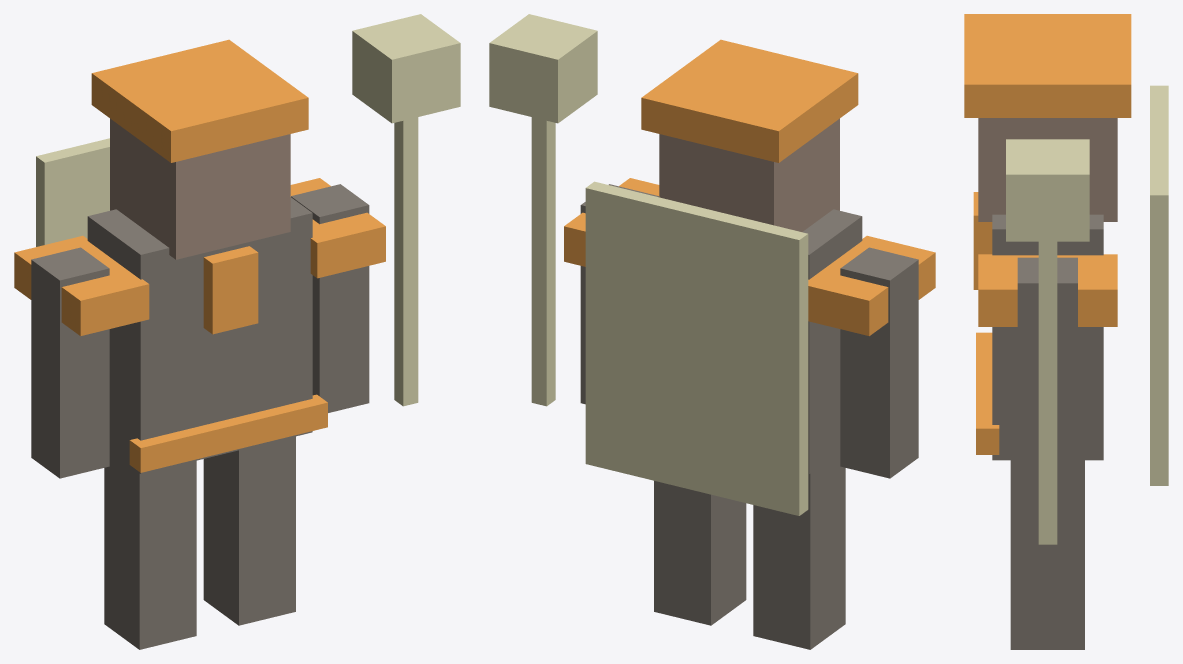
Rendered from 17_soren_gantryn_tamer_under_archive.glb.
3 views of the same model, side by side, from view 1: azimuth 30°, elevation 25°; view 2: azimuth 150°, elevation 25°; view 3: azimuth 270°, elevation 25° (orthographic). The views are drawn at different scales.
Visible parts, largest first — view 1: Soren Gantryn, Tamer under Archive; view 2: Soren Gantryn, Tamer under Archive; view 3: Soren Gantryn, Tamer under Archive.
Boxes of the visible parts, <box> form: Soren Gantryn, Tamer under Archive: <box>14,14,460,649</box>; Soren Gantryn, Tamer under Archive: <box>489,14,935,649</box>; Soren Gantryn, Tamer under Archive: <box>964,14,1168,649</box>.
Bounding box in the file's own units: 1.08 × 1.39 × 0.4581.
